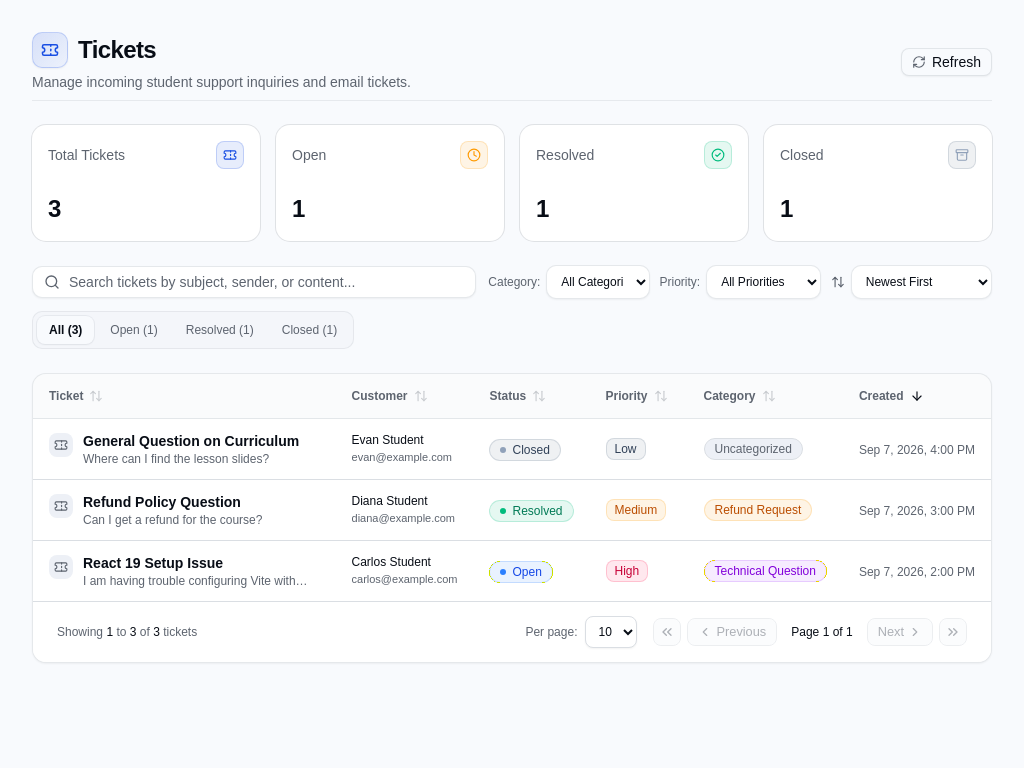
Test case: TicketsPage Component › filters tickets by category dropdown
Expected: the link "React 19 Setup Issue" is shown, top-left (83, 555), bottom-right (223, 571)
Filter by TECHNICAL_QUESTION
Select "Technical Question" in the dropdown with test id "tickets-category-select" at (598, 282), box top-left (546, 265), bottom-right (650, 299)
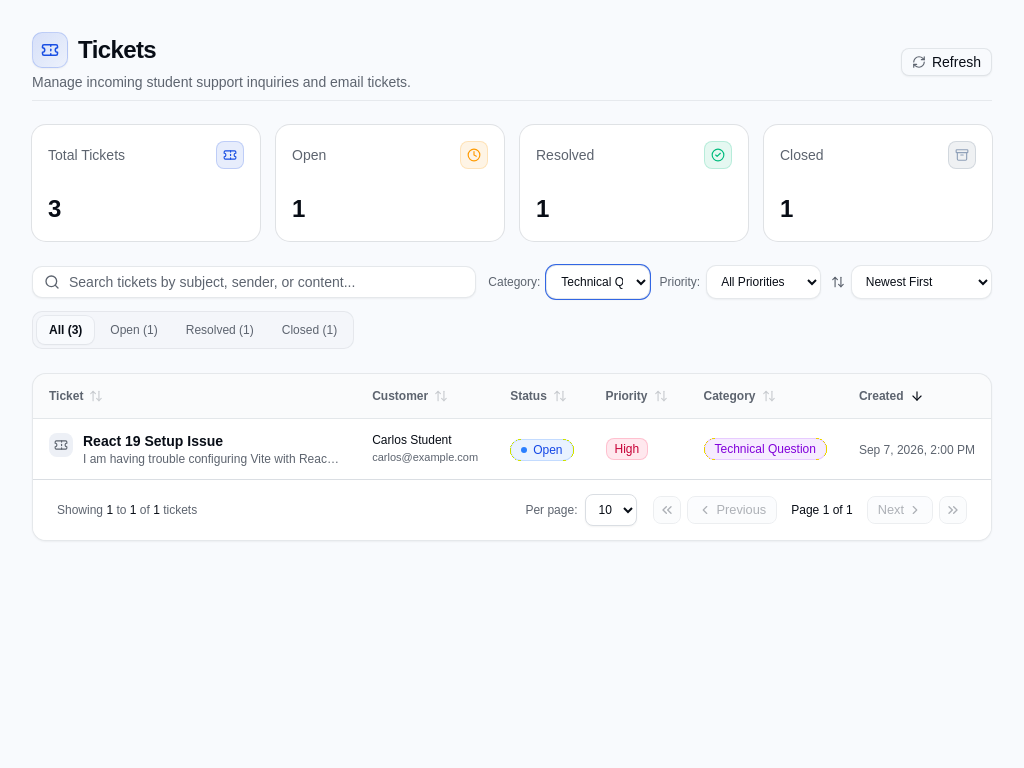
Expected: the link "React 19 Setup Issue" is shown, top-left (83, 433), bottom-right (223, 449)
Expected: the link "Refund Policy Question" is gone
Filter by REFUND_REQUEST
Select "Refund Request" in the dropdown with test id "tickets-category-select" at (598, 282), box top-left (546, 265), bottom-right (650, 299)
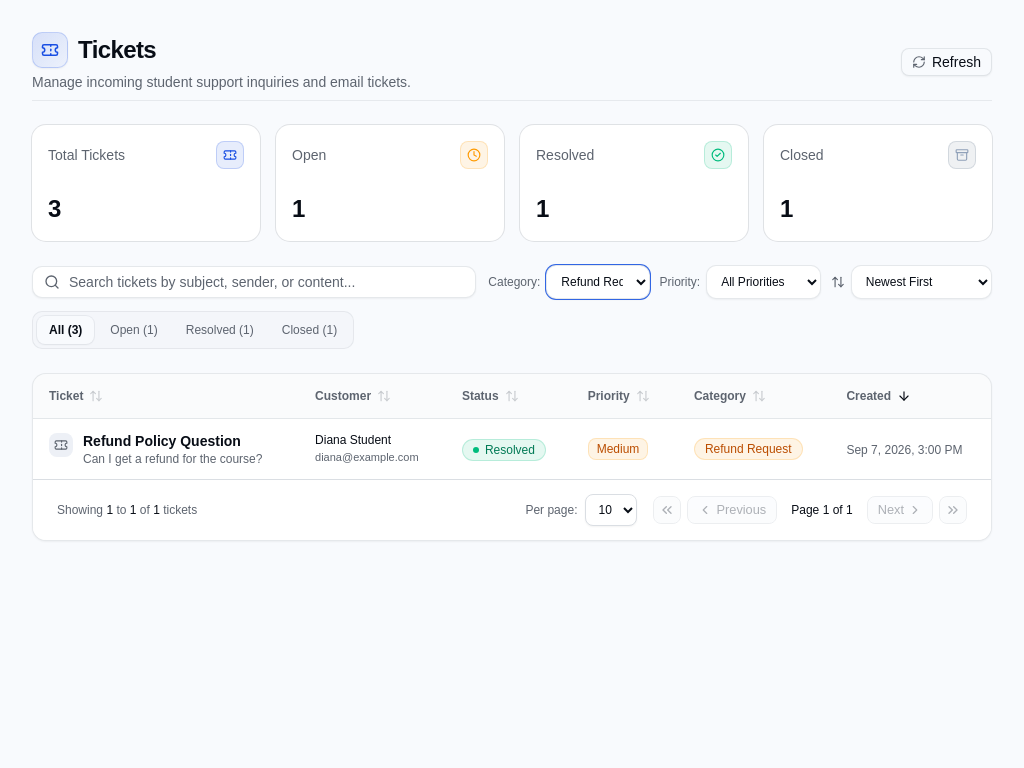
Expected: the link "Refund Policy Question" is shown, top-left (83, 431), bottom-right (262, 451)
Expected: the link "React 19 Setup Issue" is gone
Filter by UNCATEGORIZED
Select "Uncategorized" in the dropdown with test id "tickets-category-select" at (598, 282), box top-left (546, 265), bottom-right (650, 299)
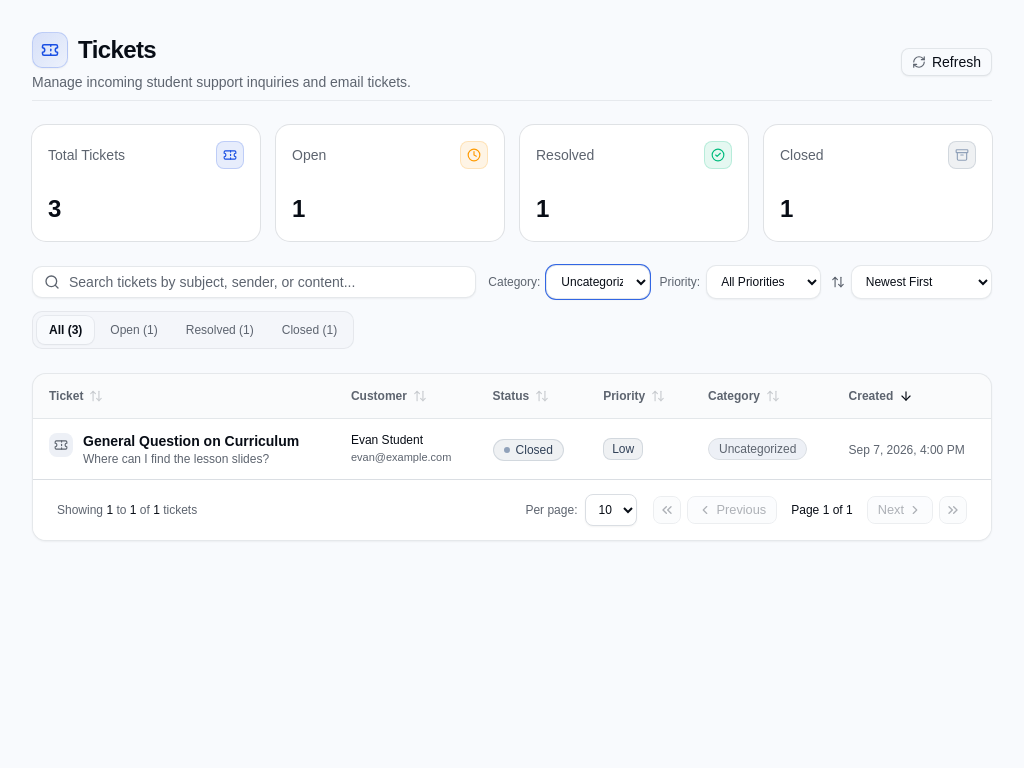
Expected: the link "React 19 Setup Issue" is not shown
Expected: the link "General Question on Curriculum" is shown, top-left (83, 431), bottom-right (299, 451)
